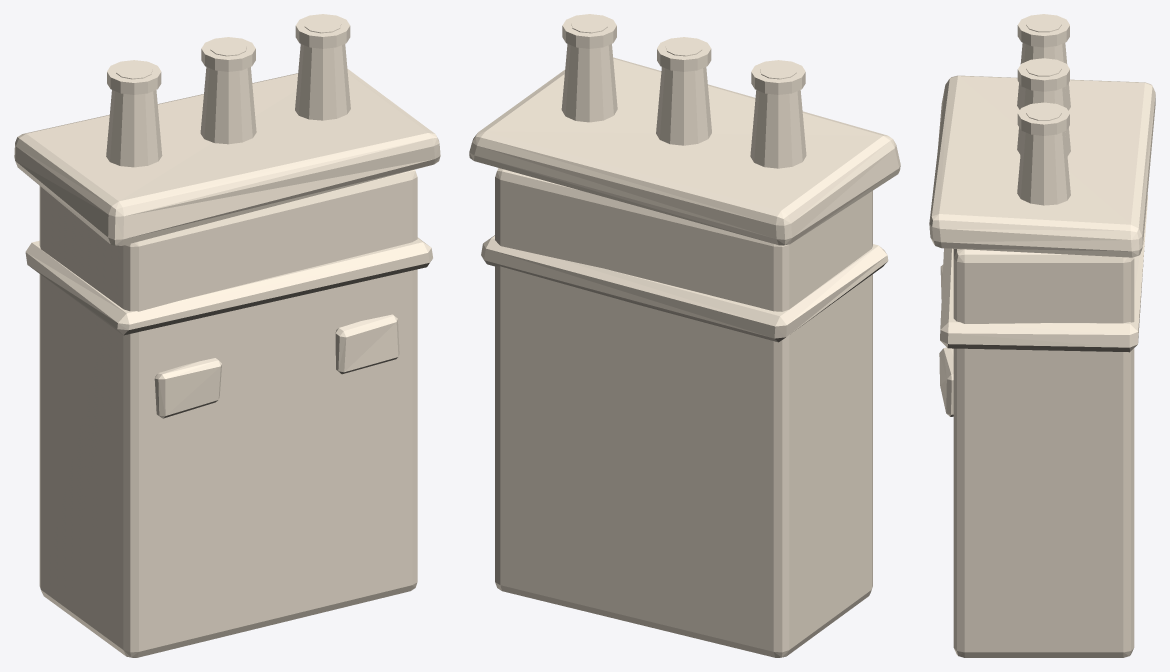
The model's file is SM_VK_Chimney_Party.fbx.
3 renders of one model, left to right at view 1: azimuth 30°, elevation 25°; view 2: azimuth 150°, elevation 25°; view 3: azimuth 270°, elevation 25°, orthographic. The views are drawn at different scales.
Parts seen in each view (by area): view 1: SM_VK_Chimney_Party.001; view 2: SM_VK_Chimney_Party.001; view 3: SM_VK_Chimney_Party.001.
Boxes of the visible parts, left/top/right/bottom form: SM_VK_Chimney_Party.001: left=14, top=14, right=440, bottom=657; SM_VK_Chimney_Party.001: left=469, top=14, right=900, bottom=657; SM_VK_Chimney_Party.001: left=929, top=14, right=1155, bottom=657.
Size of the model in its own units: 2.06 by 3.21 by 1.25.
